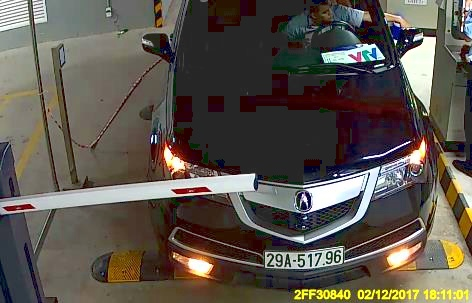plate: (260, 243, 348, 271)
